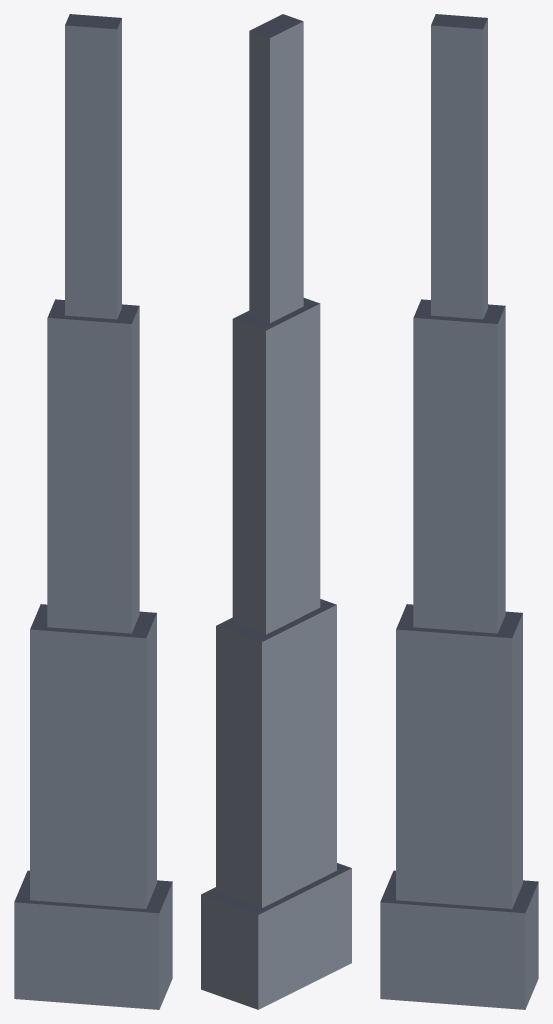
Rendered from bagshaw-building-wardian-east.glb.
3 views of the same model, side by side, from view 1: azimuth 90°, elevation 25°; view 2: azimuth 150°, elevation 25°; view 3: azimuth 270°, elevation 25° (orthographic).
Visible parts, largest first — view 1: bagshaw-building-wardian-east-1, bagshaw-building-wardian-east-2, bagshaw-building-wardian-east-3, bagshaw-building-wardian-east-0; view 2: bagshaw-building-wardian-east-1, bagshaw-building-wardian-east-2, bagshaw-building-wardian-east-3, bagshaw-building-wardian-east-0; view 3: bagshaw-building-wardian-east-1, bagshaw-building-wardian-east-2, bagshaw-building-wardian-east-3, bagshaw-building-wardian-east-0.
Boxes of the visible parts, box(x1,y1,x2,y2) form: bagshaw-building-wardian-east-1: box(30, 604, 156, 908); bagshaw-building-wardian-east-2: box(47, 299, 139, 633); bagshaw-building-wardian-east-3: box(65, 14, 121, 319); bagshaw-building-wardian-east-0: box(14, 870, 172, 1009); bagshaw-building-wardian-east-1: box(216, 599, 336, 907); bagshaw-building-wardian-east-2: box(232, 298, 320, 634); bagshaw-building-wardian-east-3: box(249, 14, 303, 322); bagshaw-building-wardian-east-0: box(201, 863, 351, 1009); bagshaw-building-wardian-east-1: box(396, 604, 522, 908); bagshaw-building-wardian-east-2: box(413, 299, 505, 633); bagshaw-building-wardian-east-3: box(431, 14, 487, 319); bagshaw-building-wardian-east-0: box(380, 870, 538, 1009).
Bounding box in the file's own units: 0.2286 × 2.41 × 0.3587.
